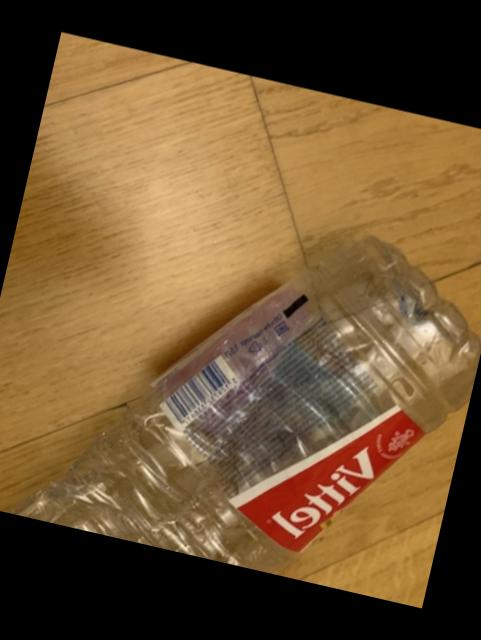plastic: (14, 241, 481, 573)
